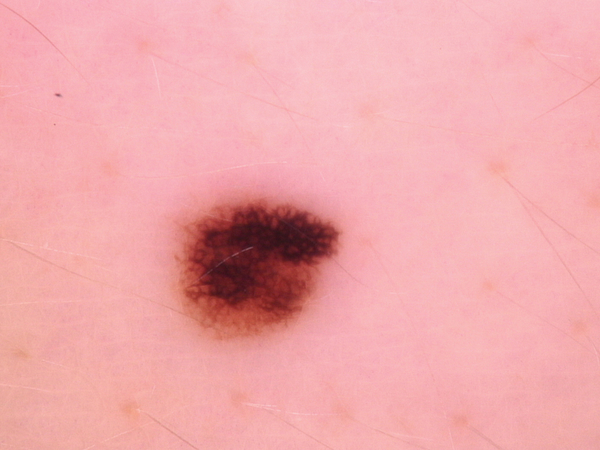Detected Lesion: (172, 197, 343, 339)
